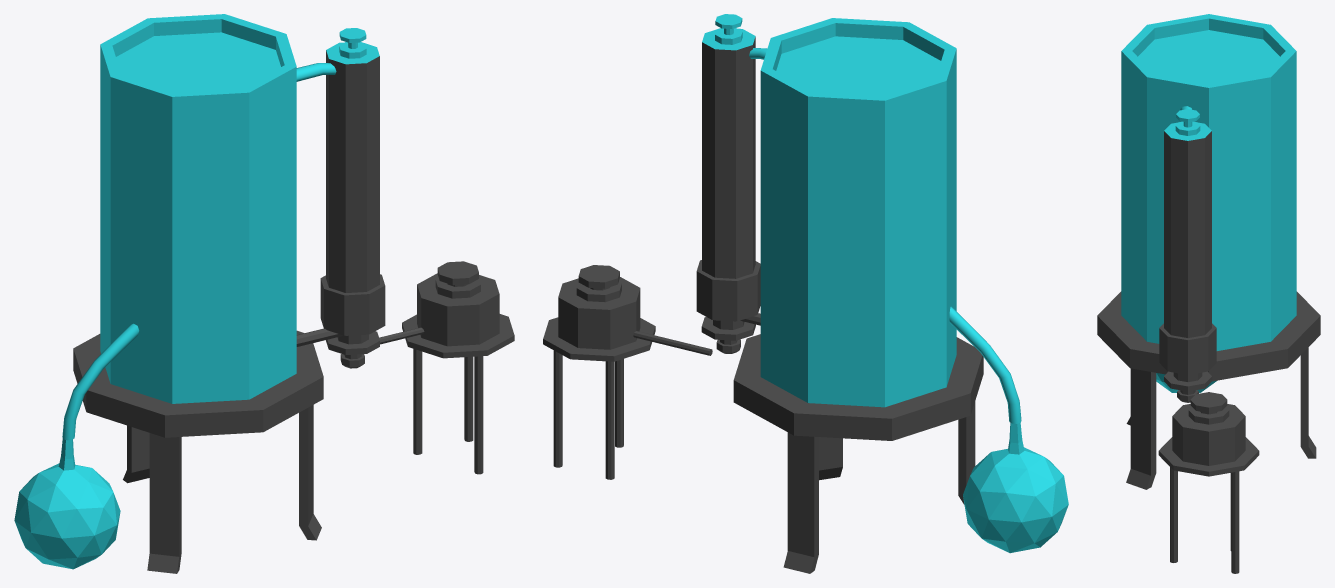
Rendered from SpinnyInsideBeaker.fbx.
3 renders of one model, left to right at view 1: azimuth 30°, elevation 25°; view 2: azimuth 150°, elevation 25°; view 3: azimuth 270°, elevation 25°, orthographic. The views are drawn at different scales.
Visible parts, largest first — view 1: SpinnyInsideBeaker; view 2: SpinnyInsideBeaker; view 3: SpinnyInsideBeaker.
Boxes of the visible parts, x1,y1,x2,y2 form: SpinnyInsideBeaker: [14, 14, 514, 573]; SpinnyInsideBeaker: [543, 14, 1068, 573]; SpinnyInsideBeaker: [1097, 14, 1320, 573].
Bounding box in the file's own units: 284 × 253 × 127.
